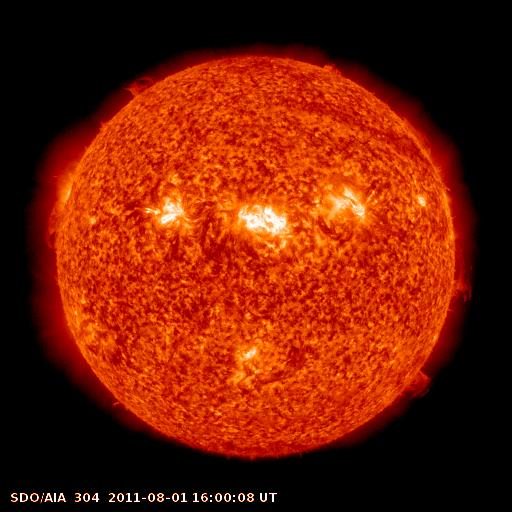prominence: (446, 238, 480, 308), (398, 112, 442, 158), (40, 190, 73, 251), (118, 66, 164, 105), (396, 363, 436, 404), (316, 55, 351, 79)
